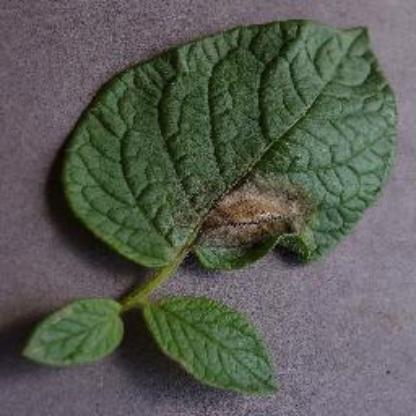Late-Blight: (14, 13, 408, 401)
